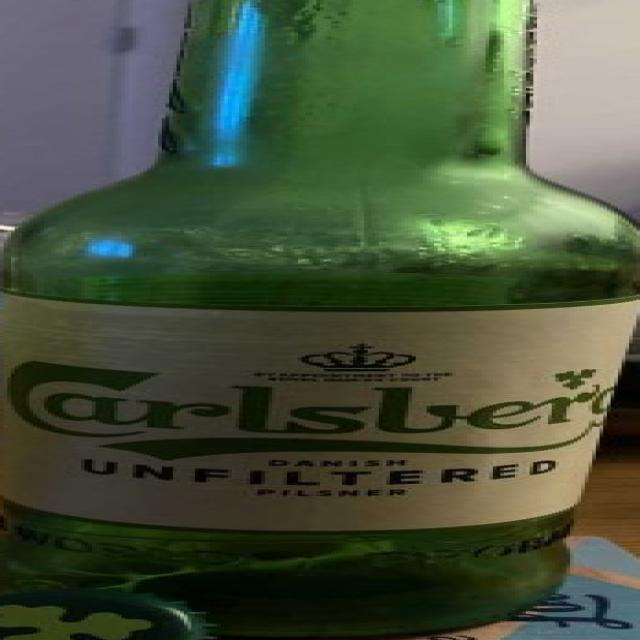Carlsberg Unfiltered: (0, 1, 640, 640)
